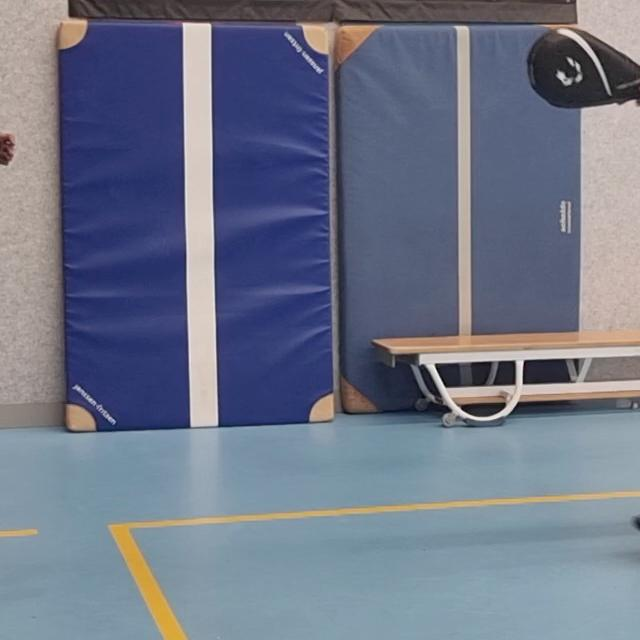paddle: (527, 24, 640, 111)
